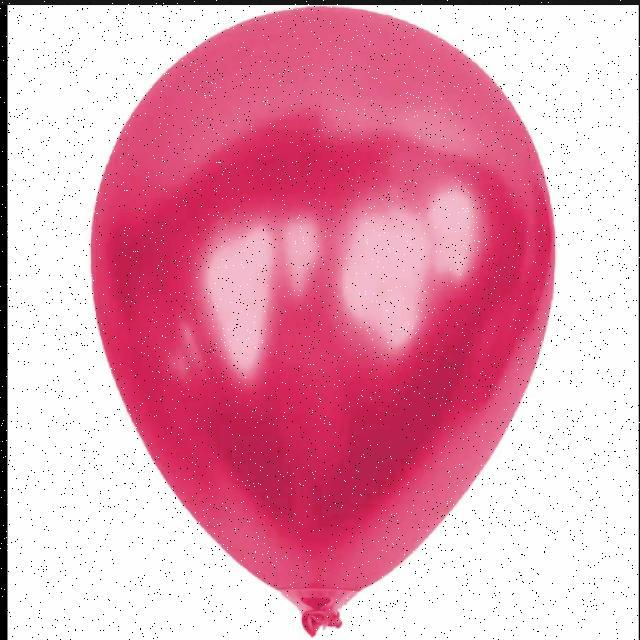red: (89, 5, 556, 635)
